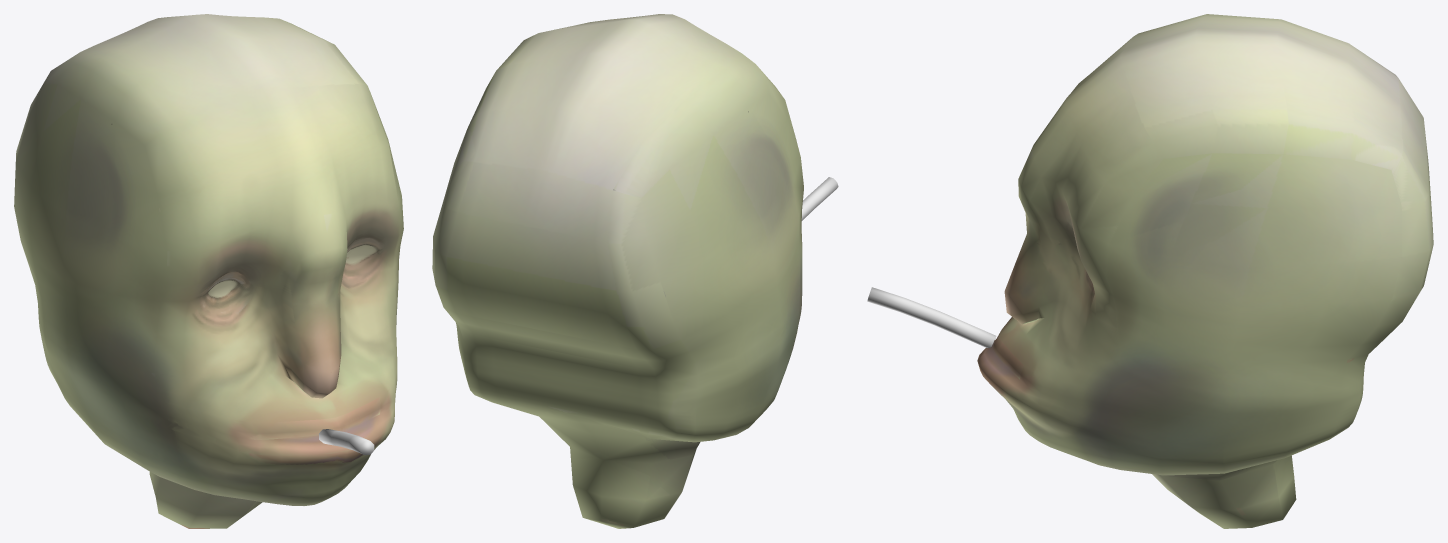
Rendered from SM_Aboubi_Head00.002.fbx.
The picture shows the model from 3 angles, left to right: view 1: azimuth 30°, elevation 25°; view 2: azimuth 150°, elevation 25°; view 3: azimuth 270°, elevation 25°; orthographic projection. The views are drawn at different scales.
Visible parts, largest first — view 1: SM_Aboubi_Head00.002; view 2: SM_Aboubi_Head00.002; view 3: SM_Aboubi_Head00.002.
Part boxes in pixels (x1,y1,x2,y2): SM_Aboubi_Head00.002: [14, 14, 403, 528]; SM_Aboubi_Head00.002: [432, 14, 838, 528]; SM_Aboubi_Head00.002: [867, 14, 1433, 528].
Bounding box in the file's own units: 29.73 × 45.9 × 47.77.
